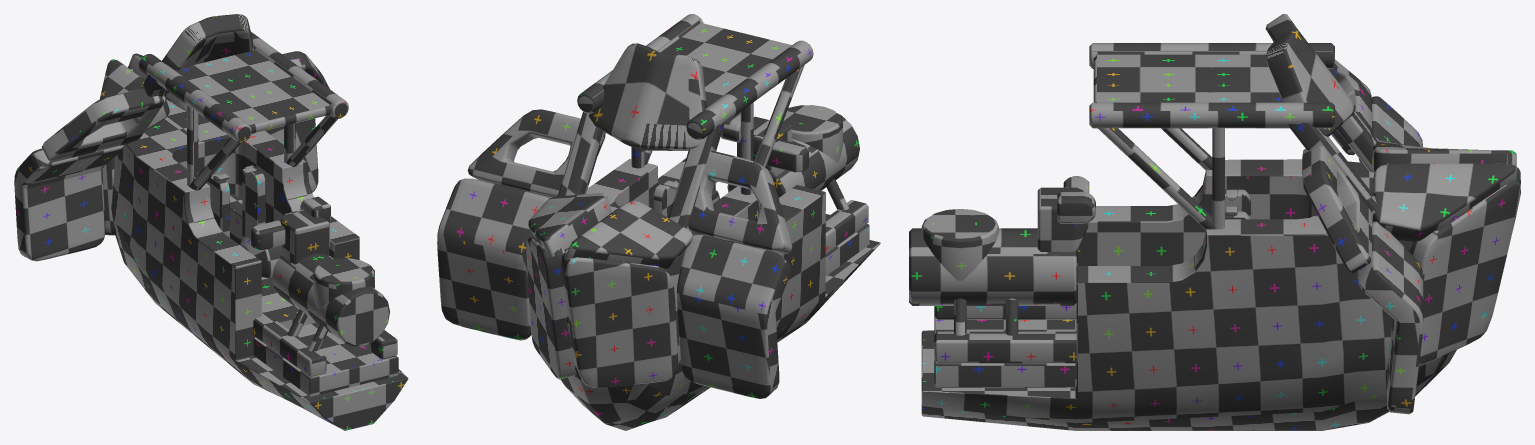
The model's file is Boatmesh.glb.
3 views of the same model, side by side, from view 1: azimuth 30°, elevation 25°; view 2: azimuth 150°, elevation 25°; view 3: azimuth 270°, elevation 25° (orthographic). The views are drawn at different scales.
Visible parts, largest first — view 1: Boat, Armor, Roof, CannonModule, ControlModule, ButtonPad, Axis; view 2: Armor, Boat, Roof, CannonModule, ButtonPad, ControlModule, Axis; view 3: Boat, Armor, Roof, CannonModule, Axis, ControlModule.
Boxes of the visible parts, x1=… form: Boat: x1=111, y1=99, x2=408, y2=430; Armor: x1=14, y1=14, x2=329, y2=261; Roof: x1=137, y1=32, x2=348, y2=190; CannonModule: x1=253, y1=209, x2=397, y2=377; ControlModule: x1=206, y1=165, x2=281, y2=277; ButtonPad: x1=251, y1=220, x2=285, y2=249; Axis: x1=300, y1=196, x2=330, y2=221; Armor: x1=437, y1=43, x2=792, y2=398; Boat: x1=560, y1=158, x2=880, y2=430; Roof: x1=557, y1=14, x2=813, y2=232; CannonModule: x1=727, y1=105, x2=868, y2=253; ButtonPad: x1=767, y1=139, x2=808, y2=172; ControlModule: x1=653, y1=179, x2=719, y2=217; Axis: x1=720, y1=112, x2=740, y2=142; Boat: x1=921, y1=159, x2=1456, y2=430; Armor: x1=1265, y1=14, x2=1520, y2=414; Roof: x1=1089, y1=43, x2=1377, y2=229; CannonModule: x1=909, y1=187, x2=1089, y2=363; Axis: x1=1057, y1=192, x2=1095, y2=223; ControlModule: x1=1225, y1=188, x2=1250, y2=219.
Bounding box in the file's own units: 3.29 × 3.43 × 4.74.
Materials: 1 (1 with a texture image).
